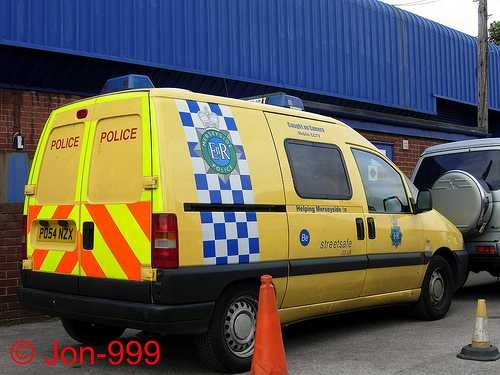Police Van: (23, 79, 477, 354)
